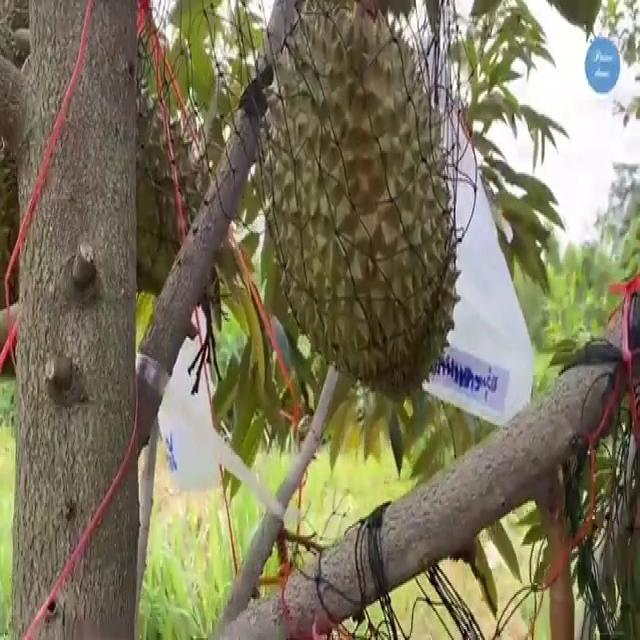durian: (256, 4, 464, 396)
